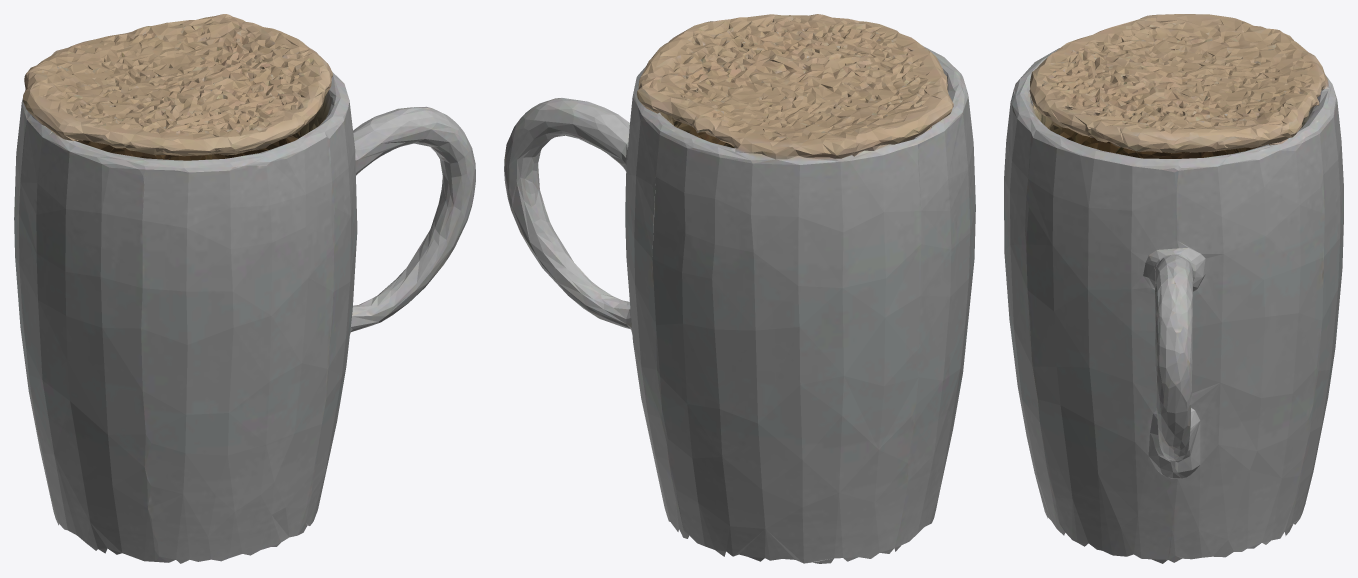
3 views of the same model, side by side, from view 1: azimuth 30°, elevation 25°; view 2: azimuth 150°, elevation 25°; view 3: azimuth 270°, elevation 25° (orthographic). The views are drawn at different scales.
Visible parts, largest first — view 1: world; view 2: world; view 3: world.
Boxes of the visible parts, x1,y1,x2,y2 form: world: (14,14,475,563); world: (504,14,975,563); world: (1004,14,1343,563).
Bounding box in the file's own units: 0.2777 × 0.2657 × 0.1874.
1 material, 1 textured.
